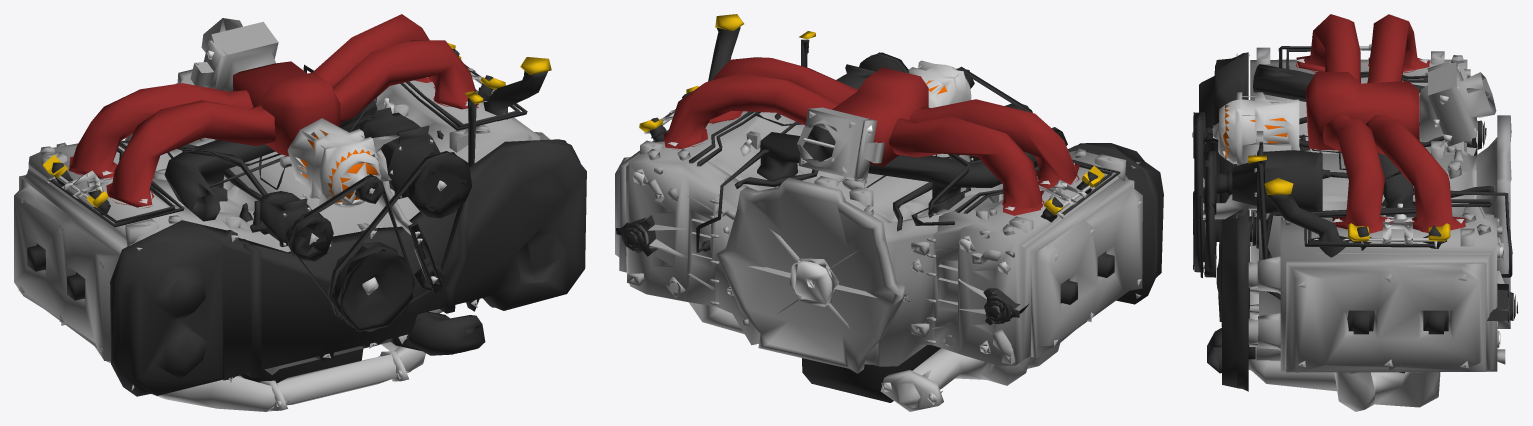
File: eng-f4-25-t.glb
3 views of the same model, side by side, from view 1: azimuth 30°, elevation 25°; view 2: azimuth 150°, elevation 25°; view 3: azimuth 270°, elevation 25° (orthographic). The views are drawn at different scales.
Parts seen in each view (by area): view 1: Object_6; view 2: Object_6; view 3: Object_6.
Part boxes in pixels (x1=…): Object_6: x1=14, y1=14, x2=586, y2=411; Object_6: x1=615, y1=14, x2=1163, y2=411; Object_6: x1=1192, y1=14, x2=1518, y2=411.
Size of the model in its own units: 0.8659 by 0.563 by 0.5499.
